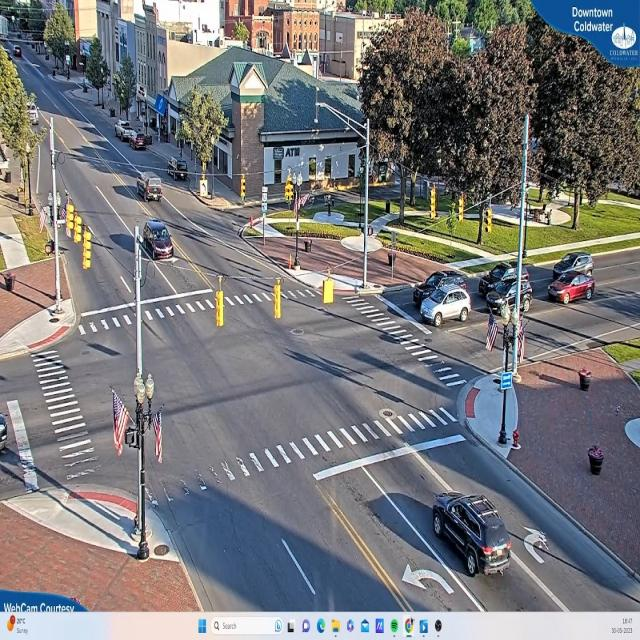car: (431, 492, 513, 577), (486, 276, 537, 321), (418, 288, 472, 327), (412, 268, 465, 302), (480, 258, 528, 293), (550, 272, 596, 304), (142, 218, 176, 260), (553, 248, 595, 279), (131, 135, 149, 150)
